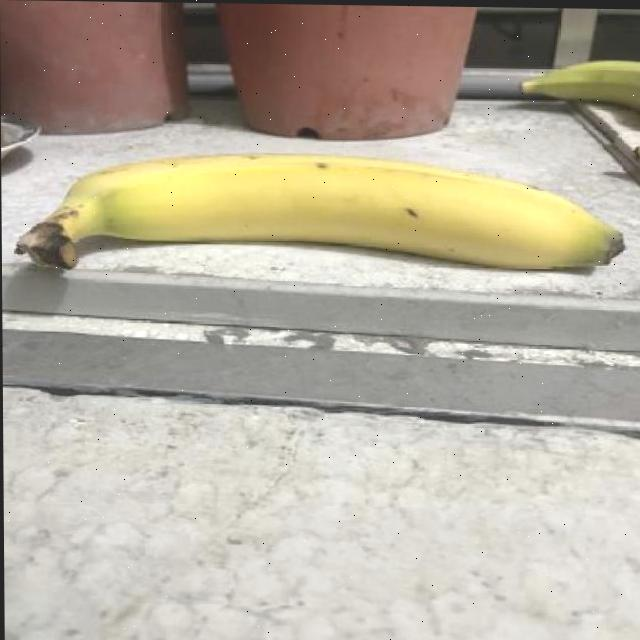banana: (13, 139, 640, 299)
